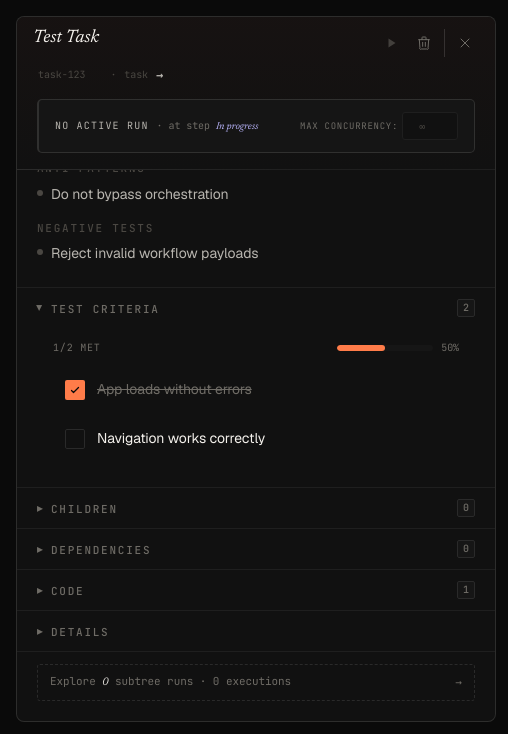
Scenario: TaskDetailPanel - Restructured Layout › Collapsible sections › Code section expands to show file paths with line numbers
(page scrolled)
Click the button with aria-label "toggle code section" at (68, 591), box [17, 570, 495, 610]
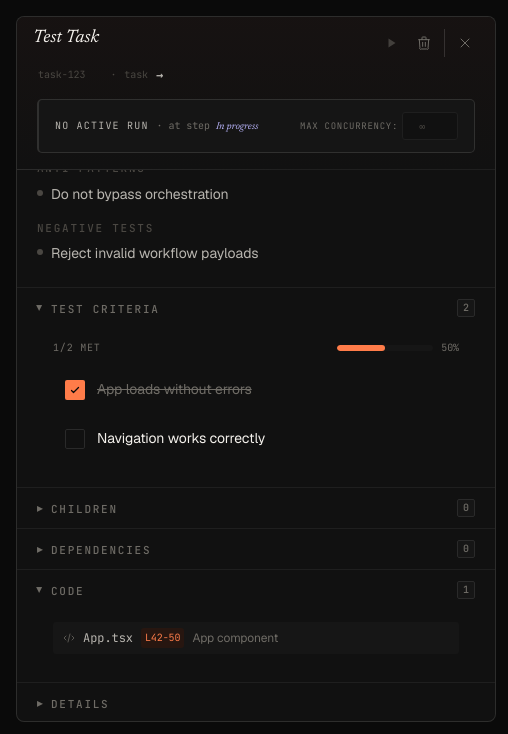
Now the text "App.tsx" is shown, box [83, 630, 133, 646]
Now the text "L42-50" is shown, box [141, 628, 184, 648]
